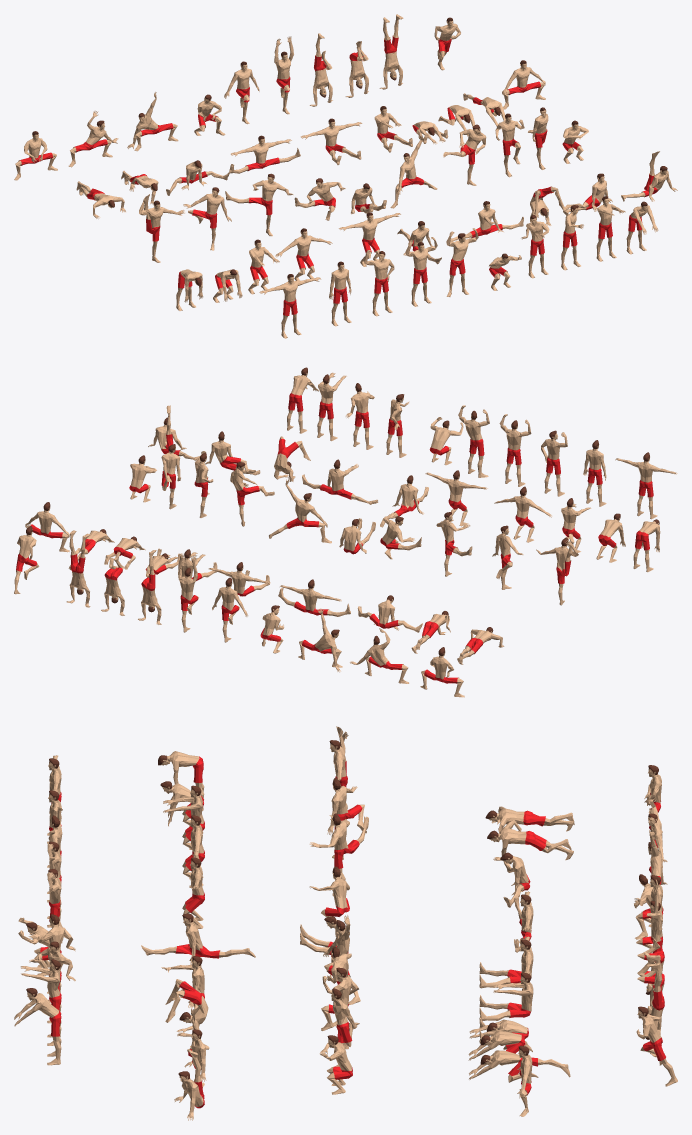
File: uploads_files_2209903_beach_man_collection 1.fbx
The picture shows the model from 3 angles, top to bottom: view 1: azimuth 30°, elevation 25°; view 2: azimuth 150°, elevation 25°; view 3: azimuth 270°, elevation 25°; orthographic projection. The views are drawn at different scales.
Parts seen in each view (by area): view 1: beach_man.033, beach_man, beach_man.048, beach_man.022, beach_man.002, beach_man.004, beach_man.003, beach_man.021, beach_man.001, beach_man.026, beach_man.039, beach_man.020 (+36 smaller); view 2: beach_man.025, beach_man.033, beach_man.004, beach_man, beach_man.003, beach_man.016, beach_man.048, beach_man.002, beach_man.001, beach_man.041, beach_man.045, beach_man.042 (+35 smaller); view 3: beach_man.035, beach_man.031, beach_man.015, beach_man.017, beach_man.009, beach_man.038, beach_man.030, beach_man.022, beach_man.049, beach_man.029, beach_man.034, beach_man.021 (+23 smaller).
Boxes of the visible parts, x1=… form: beach_man.033: x1=229, y1=135, x2=300, y2=173; beach_man: x1=259, y1=274, x2=321, y2=338; beach_man.048: x1=379, y1=14, x2=403, y2=89; beach_man.022: x1=225, y1=173, x2=293, y2=236; beach_man.002: x1=364, y1=250, x2=394, y2=316; beach_man.004: x1=446, y1=228, x2=478, y2=296; beach_man.003: x1=405, y1=237, x2=437, y2=306; beach_man.021: x1=183, y1=187, x2=231, y2=250; beach_man.001: x1=329, y1=261, x2=351, y2=326; beach_man.026: x1=443, y1=124, x2=486, y2=185; beach_man.039: x1=502, y1=60, x2=545, y2=109; beach_man.020: x1=139, y1=194, x2=184, y2=262; beach_man.025: x1=269, y1=477, x2=331, y2=543; beach_man.033: x1=278, y1=579, x2=350, y2=616; beach_man.004: x1=458, y1=405, x2=489, y2=477; beach_man: x1=615, y1=452, x2=677, y2=519; beach_man.003: x1=499, y1=414, x2=531, y2=486; beach_man.016: x1=302, y1=459, x2=378, y2=504; beach_man.048: x1=66, y1=530, x2=90, y2=607; beach_man.002: x1=541, y1=430, x2=567, y2=496; beach_man.001: x1=583, y1=440, x2=606, y2=506; beach_man.041: x1=350, y1=628, x2=409, y2=683; beach_man.045: x1=178, y1=553, x2=198, y2=632; beach_man.042: x1=298, y1=608, x2=342, y2=672; beach_man.035: x1=479, y1=972, x2=533, y2=1020; beach_man.031: x1=487, y1=819, x2=573, y2=860; beach_man.015: x1=141, y1=913, x2=255, y2=964; beach_man.017: x1=165, y1=979, x2=208, y2=1036; beach_man.009: x1=14, y1=988, x2=61, y2=1065; beach_man.038: x1=469, y1=1050, x2=570, y2=1082; beach_man.030: x1=485, y1=806, x2=574, y2=833; beach_man.022: x1=309, y1=813, x2=368, y2=896; beach_man.049: x1=636, y1=1006, x2=677, y2=1086; beach_man.029: x1=319, y1=1035, x2=352, y2=1094; beach_man.034: x1=479, y1=936, x2=533, y2=988; beach_man.021: x1=327, y1=778, x2=366, y2=859.
Size of the model in its own units: 1597 by 236 by 1404.
Materials: 1 (1 with a texture image).
